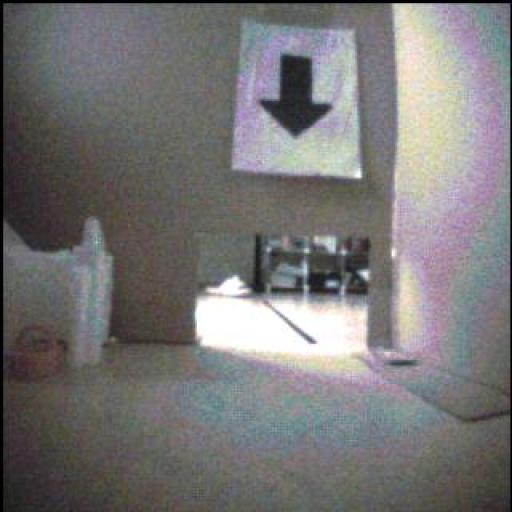arrow: (260, 55, 332, 137)
